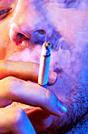smoke: (38, 40, 49, 87)
